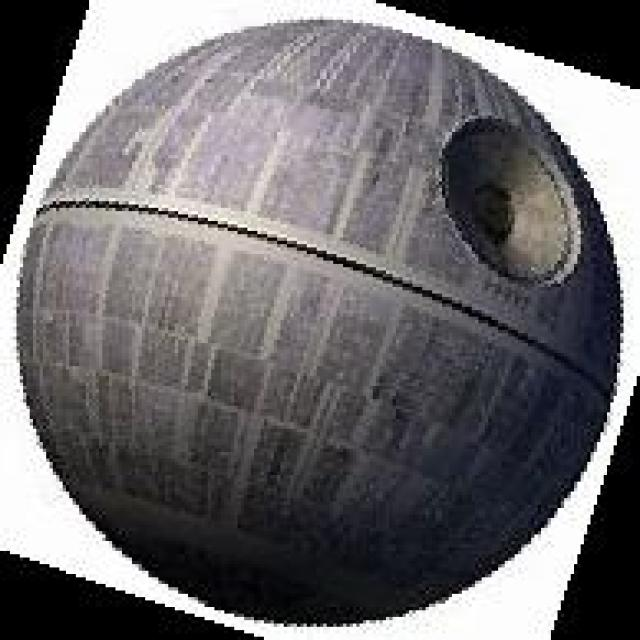Death Star: (6, 10, 624, 630)
